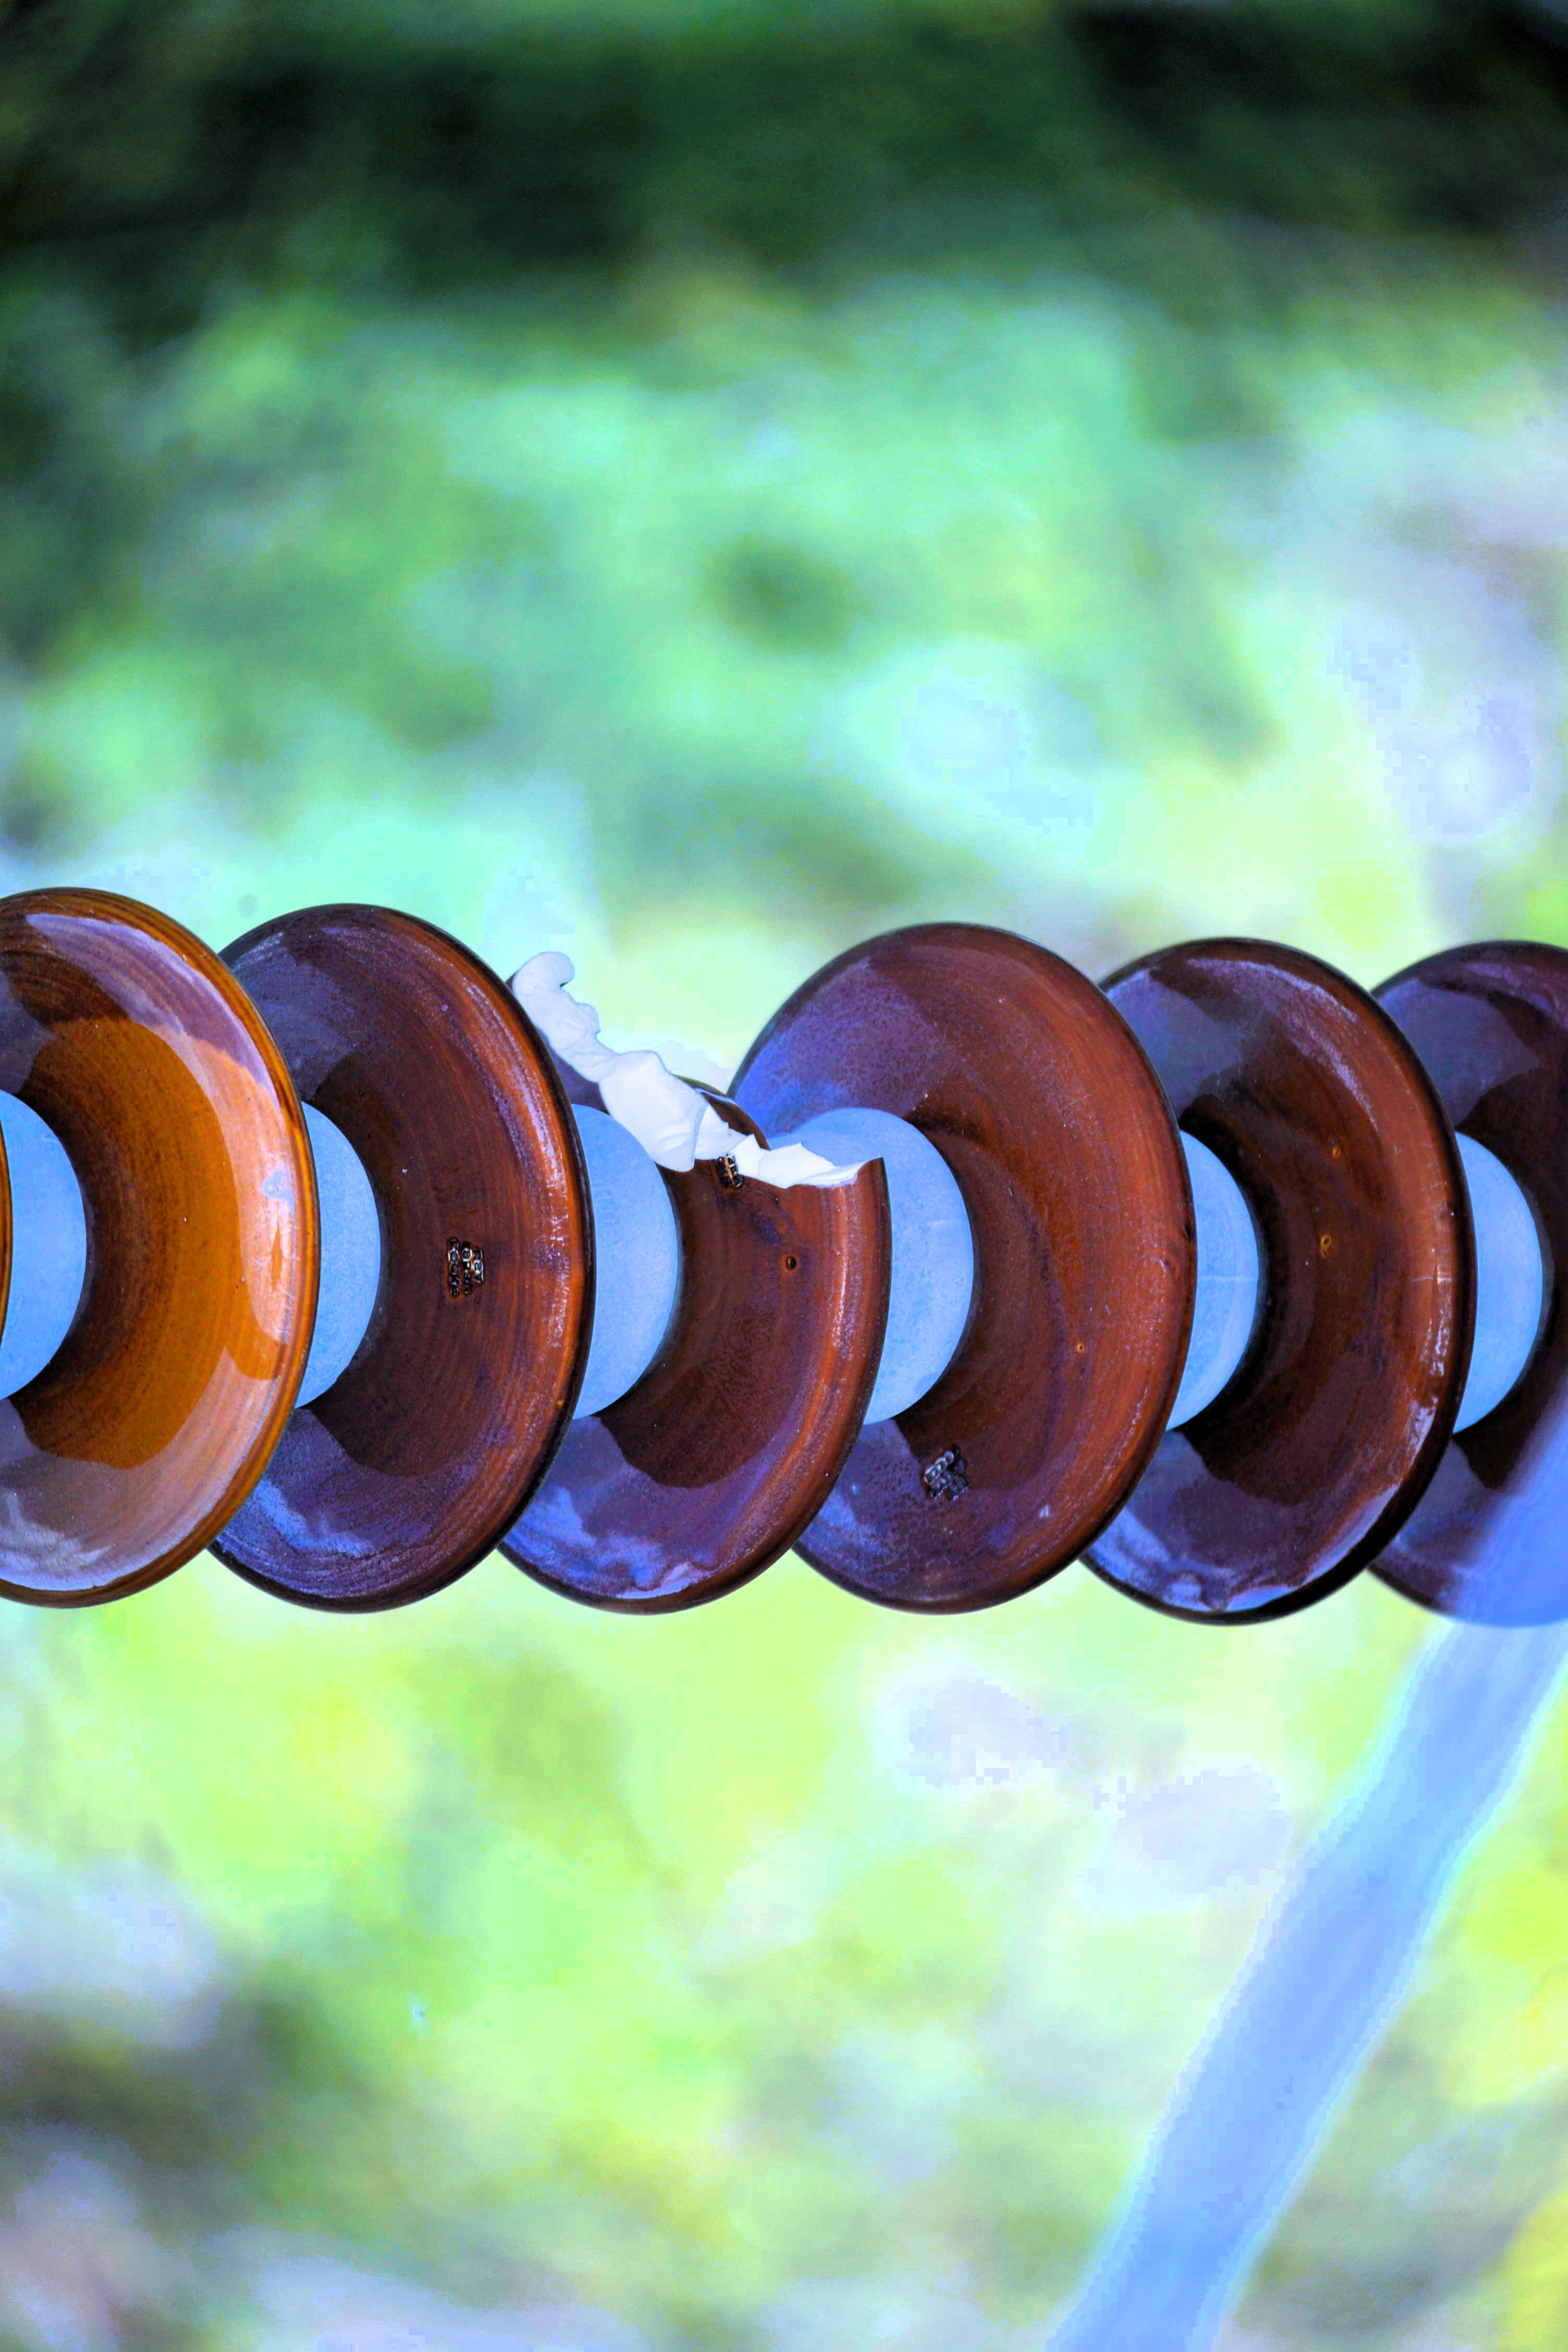insulator breakage: (488, 910, 896, 1643)
